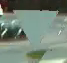Give way: (4, 1, 63, 62)
